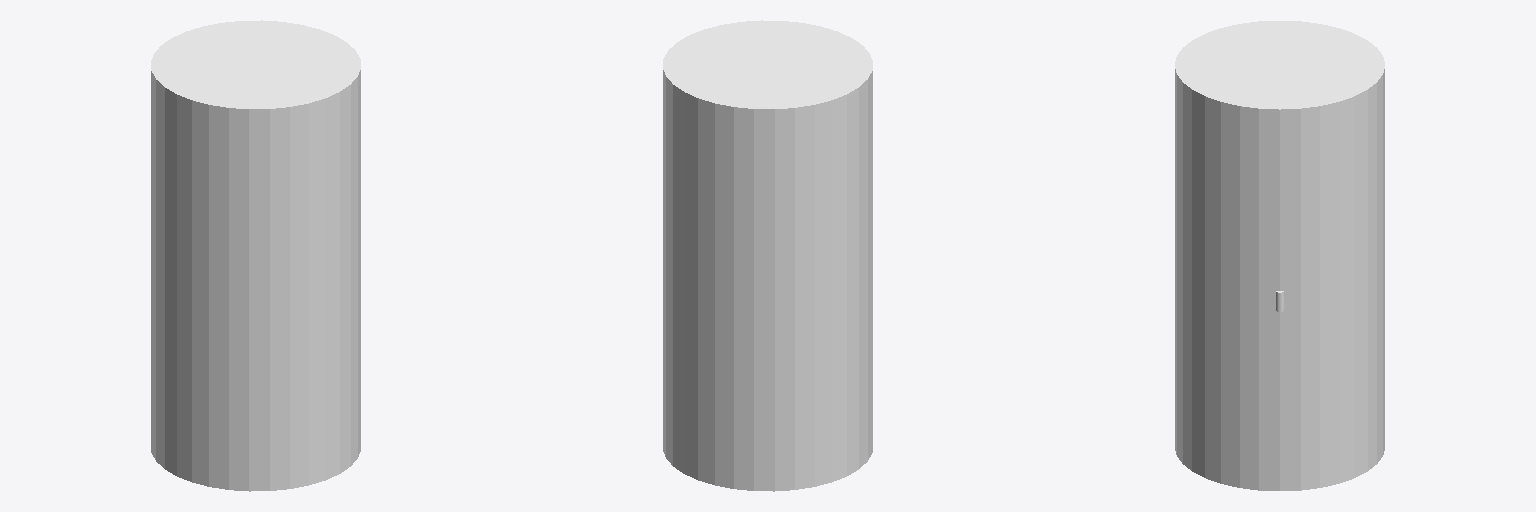
URDF robot description (scratcher):
<?xml version="1.0" ?>
<robot name="scratcher">

    <material name="color">
        <color rgba="1.0 1.0 1.0 1.0"/>
    </material>

    <link name="handle">
        <visual>
            <origin xyz="0 0 0" rpy="0 0 0"/>
            <geometry>
                <cylinder length="0.10" radius="0.025"/>
            </geometry>
            <material name="color"/>
        </visual>
        <collision>
            <origin xyz="0 0 0" rpy="0 0 0"/>
            <geometry>
                <cylinder length="0.05" radius="0.01"/>
            </geometry>
        </collision>
        <contact>
            <rolling_friction value="0.001"/>
            <spinning_friction value="0.001"/>
        </contact>
        <inertial>
            <origin rpy="0 0 0" xyz="0 0 0"/>
            <!--<mass value="1.66"/>-->
            <mass value="0.1"/>
            <inertia ixx="1" ixy="0" ixz="0" iyy="1" iyz="0" izz="1"/>
        </inertial>
    </link>

    <link name="tool">
        <visual>
            <origin xyz="0.025 0 0" rpy="0 0 0"/>
            <geometry>
                <cylinder length="0.005" radius="0.001"/>
            </geometry>
            <material name="color"/>
        </visual>
        <collision>
            <origin xyz="0.005 0 0" rpy="0 0 0"/>
            <geometry>
                <cylinder length="0.005" radius="0.001"/>
            </geometry>
        </collision>
        <contact>
            <rolling_friction value="0.001"/>
            <spinning_friction value="0.001"/>
        </contact>
        <inertial>
            <origin rpy="0 0 0" xyz="0 0 0"/>
            <mass value="0.1"/>
            <inertia ixx="1" ixy="0" ixz="0" iyy="1" iyz="0" izz="1"/>
        </inertial>
    </link>


    <joint name="j_weld1" type="fixed">
        <parent link="handle"/>
        <child link="tool"/>
        <origin xyz="0 0 0"/>
    </joint>

</robot>

--- Facts derived from the render (not from the file) ---
3 views of the same robot in one strip: view 1: azimuth 30°, elevation 25°; view 2: azimuth 150°, elevation 25°; view 3: azimuth 270°, elevation 25° (orthographic).
Model scratcher with 2 links and 1 joints (1 fixed), rooted at handle, posed every joint at zero.
Links seen in each view (by area): view 1: handle; view 2: handle; view 3: handle.
Link boxes in pixels (<box>): handle: <box>151,20,360,491</box>; handle: <box>663,20,872,491</box>; handle: <box>1175,21,1384,490</box>.
Bounding box of the posed robot: 0.051 × 0.05 × 0.1 m (x, y, z).
Geometry: primitives only (box / cylinder / sphere), no mesh files.
